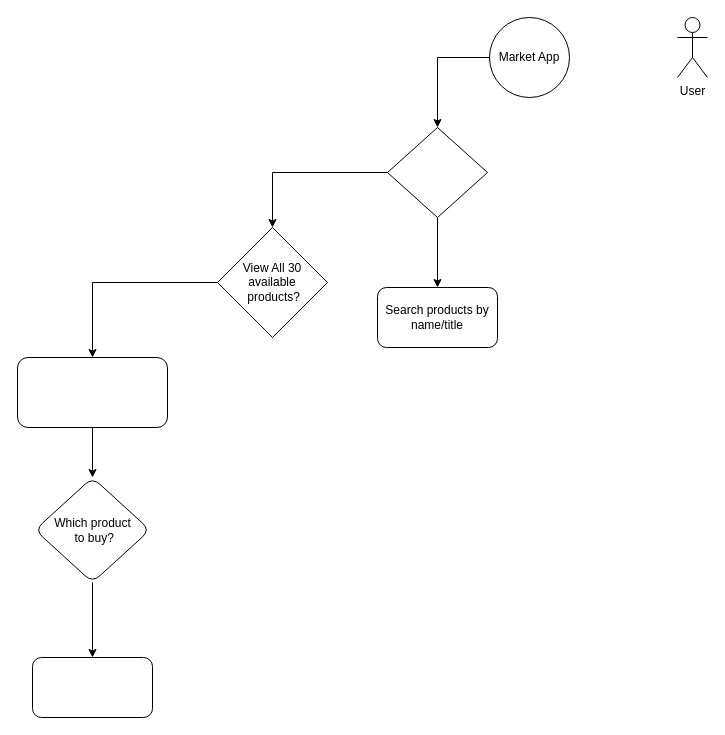
Image size: 725x735. Some labels were removed from this diagram. Each missing label, with the centre of its shape:
"Buy products?" goes at [437,172].
"Display 30 products. Ask user if they would like to buy any." goes at [92,392].
"Get product choice and sell product to customer" goes at [92,687].
